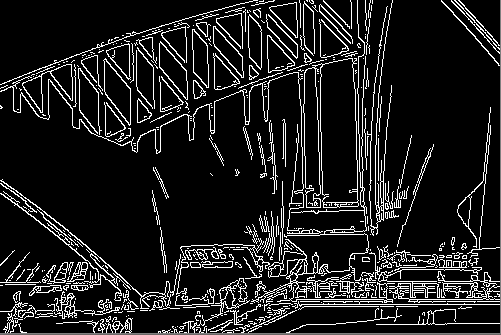opera house: (5, 63, 501, 301)
